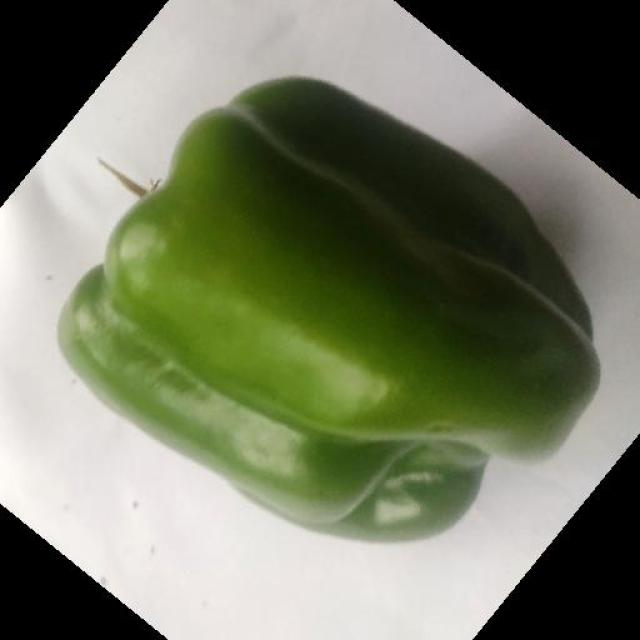Fresh_Capsicum: (49, 98, 610, 527)
